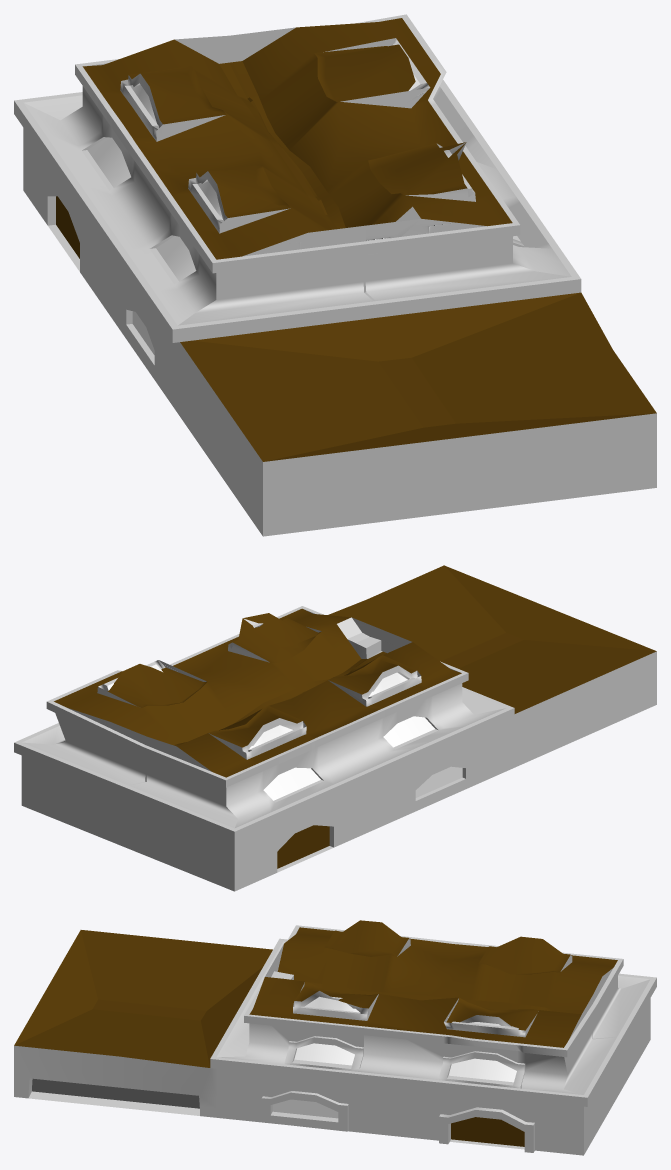
File: Huis kapot.fbx
3 views of the same model, one above another, from view 1: azimuth 30°, elevation 25°; view 2: azimuth 150°, elevation 25°; view 3: azimuth 270°, elevation 25° (orthographic). The views are drawn at different scales.
Visible parts, largest first — view 1: pCube47; view 2: pCube47; view 3: pCube47.
Part boxes in pixels (x1,y1,x2,y2): pCube47: (14, 14, 656, 536); pCube47: (14, 565, 656, 891); pCube47: (14, 920, 656, 1155).
Bounding box in the file's own units: 6.86 × 2.05 × 10.52.
